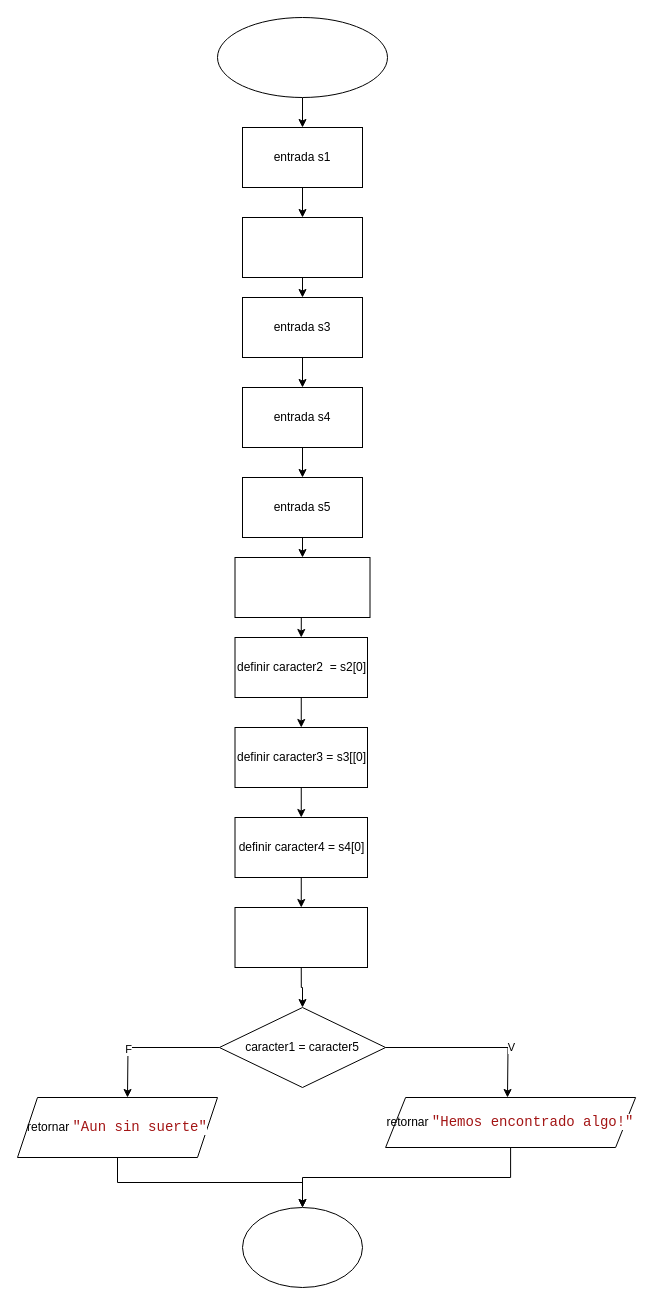
This 654x1305 diagram has some shape labels left out. The shapes that lost their labels are listed below. From the top down, each one's centre as x and y in pixels, then its label:
At [302,57]: "Algoritmo Practico 1 ejer 9".
At [302,247]: "entrada s2".
At [302,587]: "definir caracter1 = s1[0]".
At [301,937]: "definir caracter5 = s5[0]".
At [302,1247]: "FinAlgoritmo".
